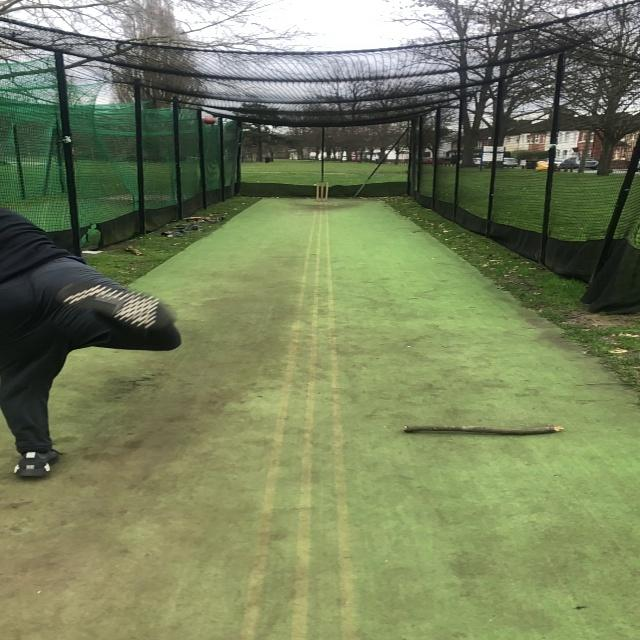ball: (204, 115, 216, 125)
